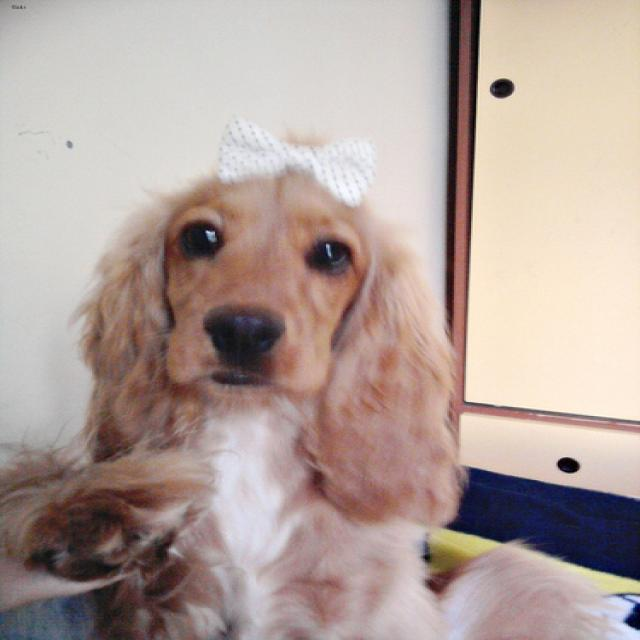dog-english_cocker_spaniel: (2, 155, 620, 637)
